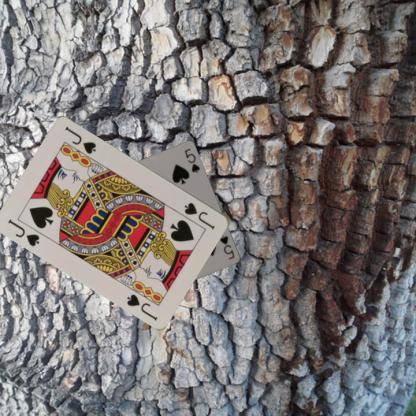5s: (217, 233, 236, 260)
Js: (5, 216, 42, 248), (182, 199, 216, 231)
